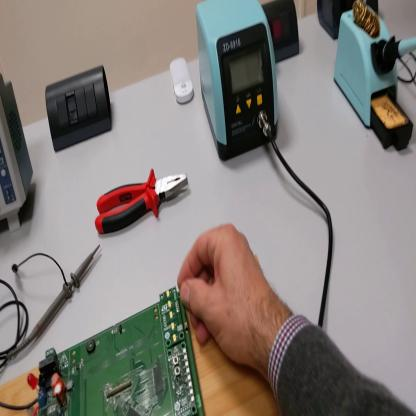hand: (177, 222, 273, 370)
low voltage board: (1, 288, 206, 416)
oscilloscope: (2, 62, 36, 233)
oscilloscope probe tip: (8, 245, 99, 360)
pliers: (96, 159, 189, 237)
socket: (263, 2, 302, 64), (319, 2, 379, 42)
welder base: (335, 3, 416, 154)
welder probe tip: (388, 36, 416, 61)
welder station: (197, 2, 281, 162)
working area: (2, 315, 280, 415)
